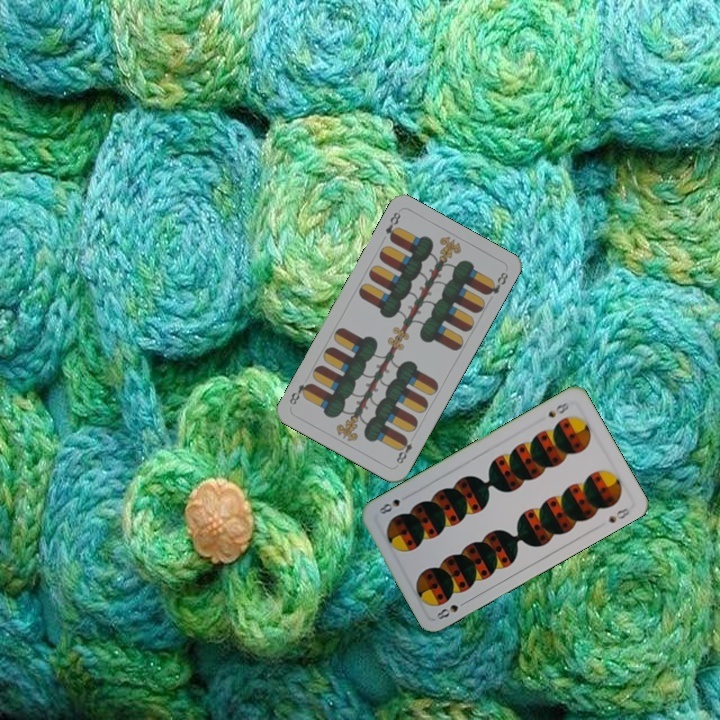E8: (381, 208, 404, 244), (392, 433, 415, 467)
S8: (433, 596, 470, 624), (544, 398, 571, 420)
